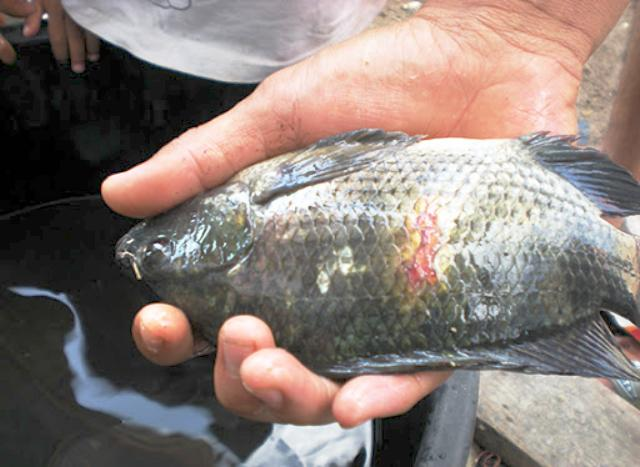Tilapia Lake Virus -TiLV-: (116, 130, 640, 379)
